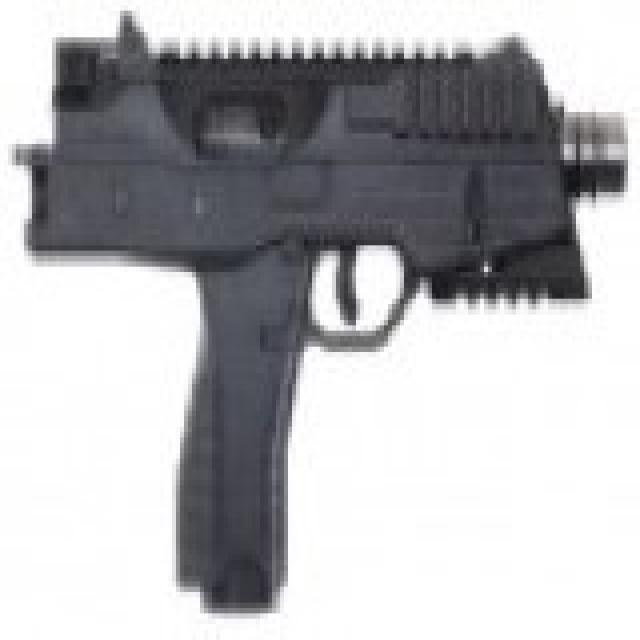Gun: (5, 9, 640, 608)
